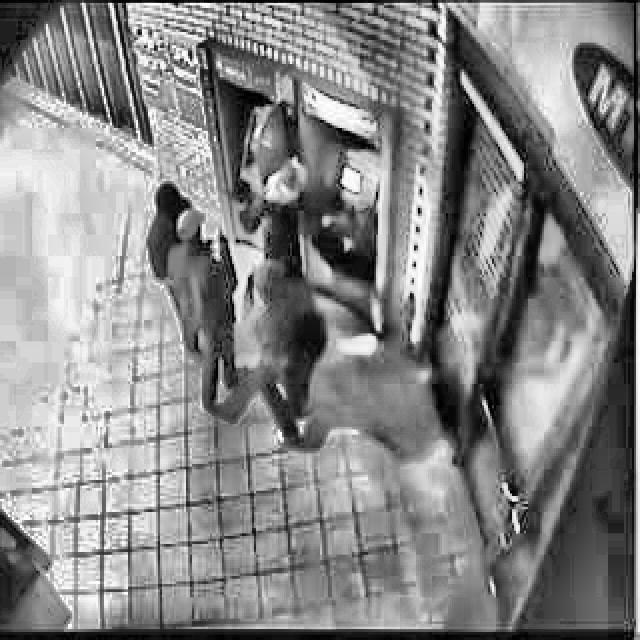burglary: (144, 88, 382, 456)
